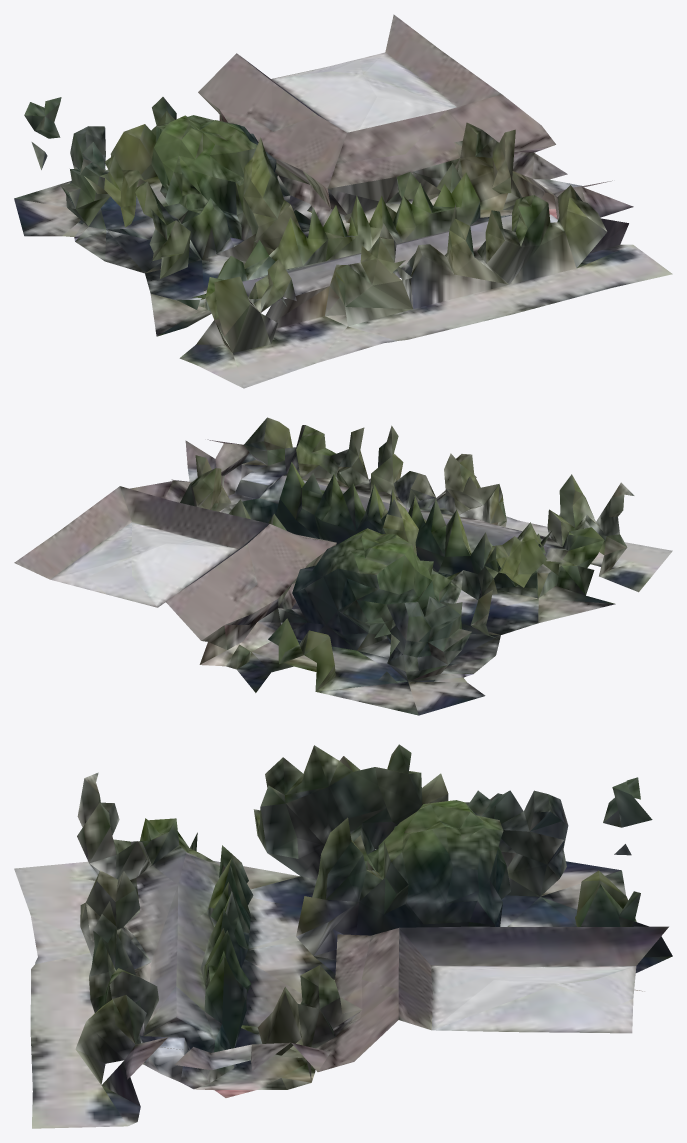
File: Tile_+004_+001.glb
3 renders of one model, top to bottom at view 1: azimuth 30°, elevation 25°; view 2: azimuth 150°, elevation 25°; view 3: azimuth 270°, elevation 25°, orthographic. The views are drawn at different scales.
Visible parts, largest first — view 1: rtc; view 2: rtc; view 3: rtc.
Part boxes in pixels (bbox=[...]): rtc: bbox=[14, 14, 672, 388]; rtc: bbox=[14, 417, 672, 715]; rtc: bbox=[14, 744, 672, 1128].
Size of the model in its own units: 60.27 by 15.09 by 61.57.
Materials: 1 (1 with a texture image).
